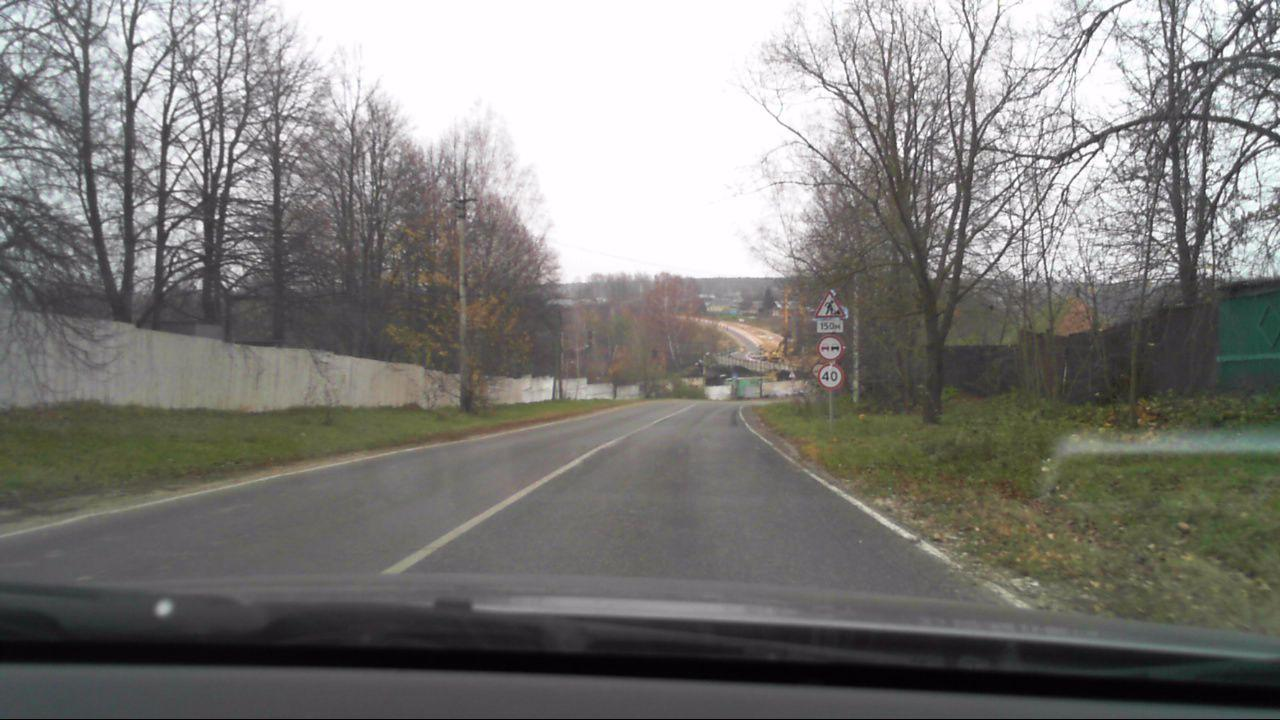1_25: (816, 292, 843, 318)
3_20: (817, 335, 844, 359)
3_24: (819, 363, 845, 388)
8_1_1: (817, 320, 844, 334)
